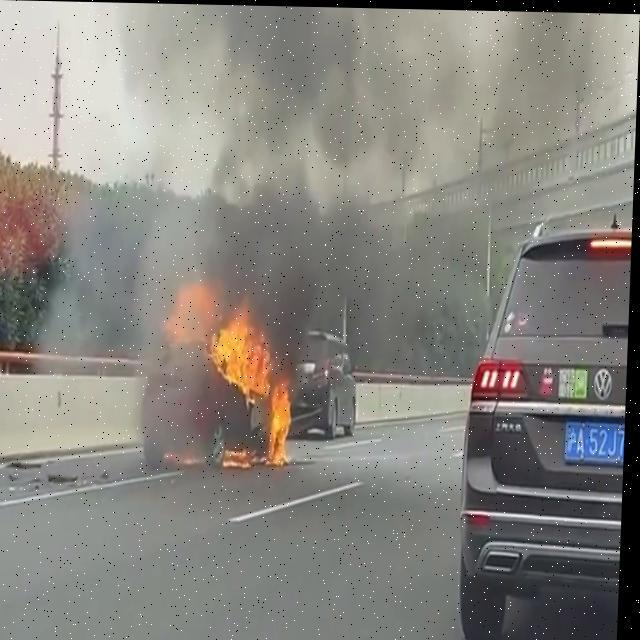single accident: (85, 243, 392, 473)
